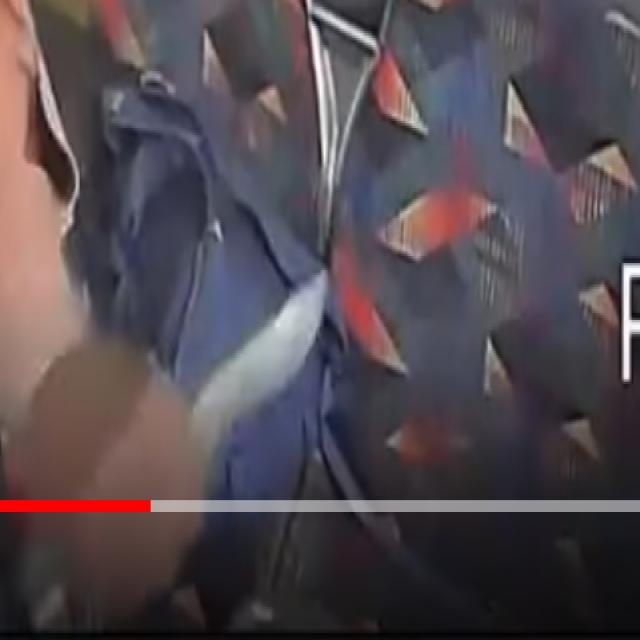Fknife: (174, 240, 339, 468)
